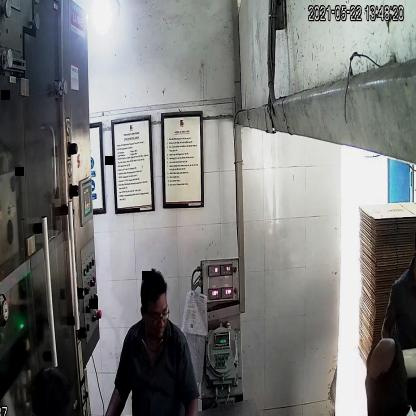goggles: (139, 305, 172, 327)
